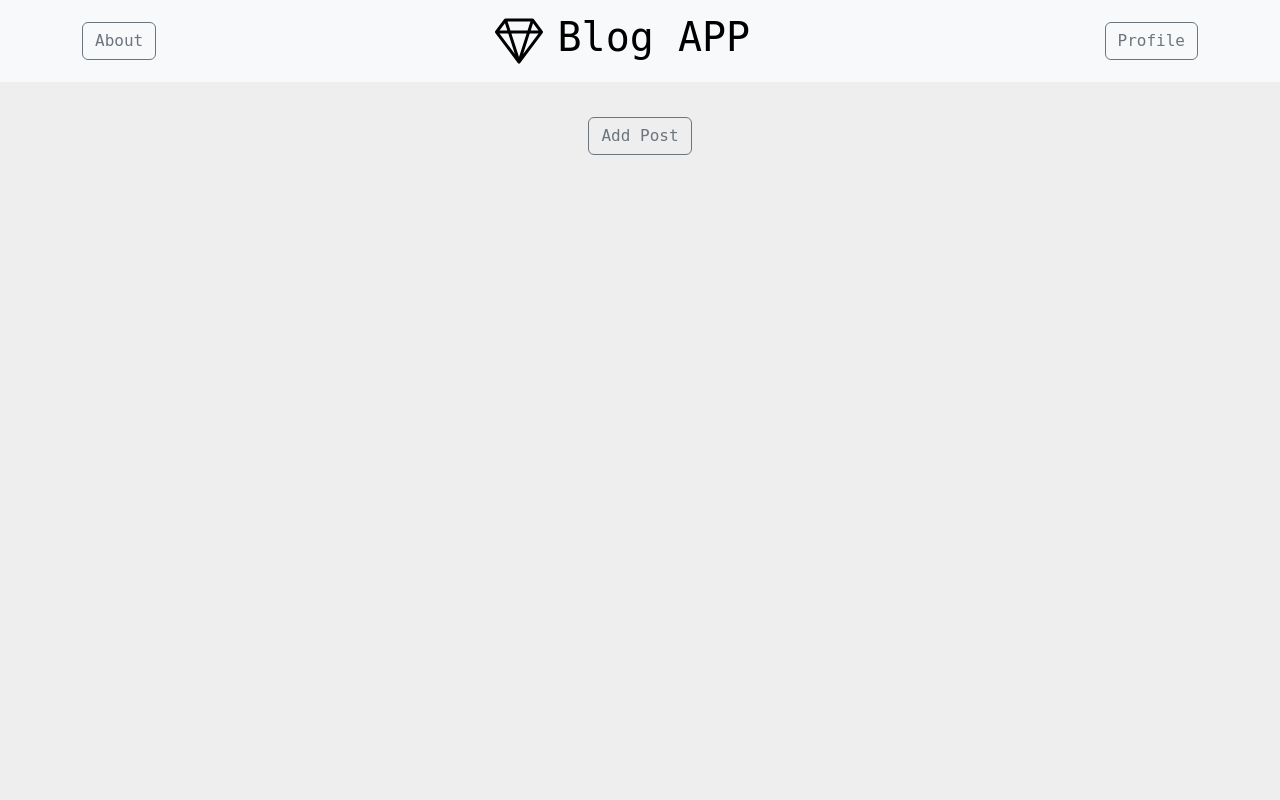
Test: AddPostModal Component Tests › should add a new post
Click the button with class "add-btn": coordinates (641, 136) [589,117,692,155]
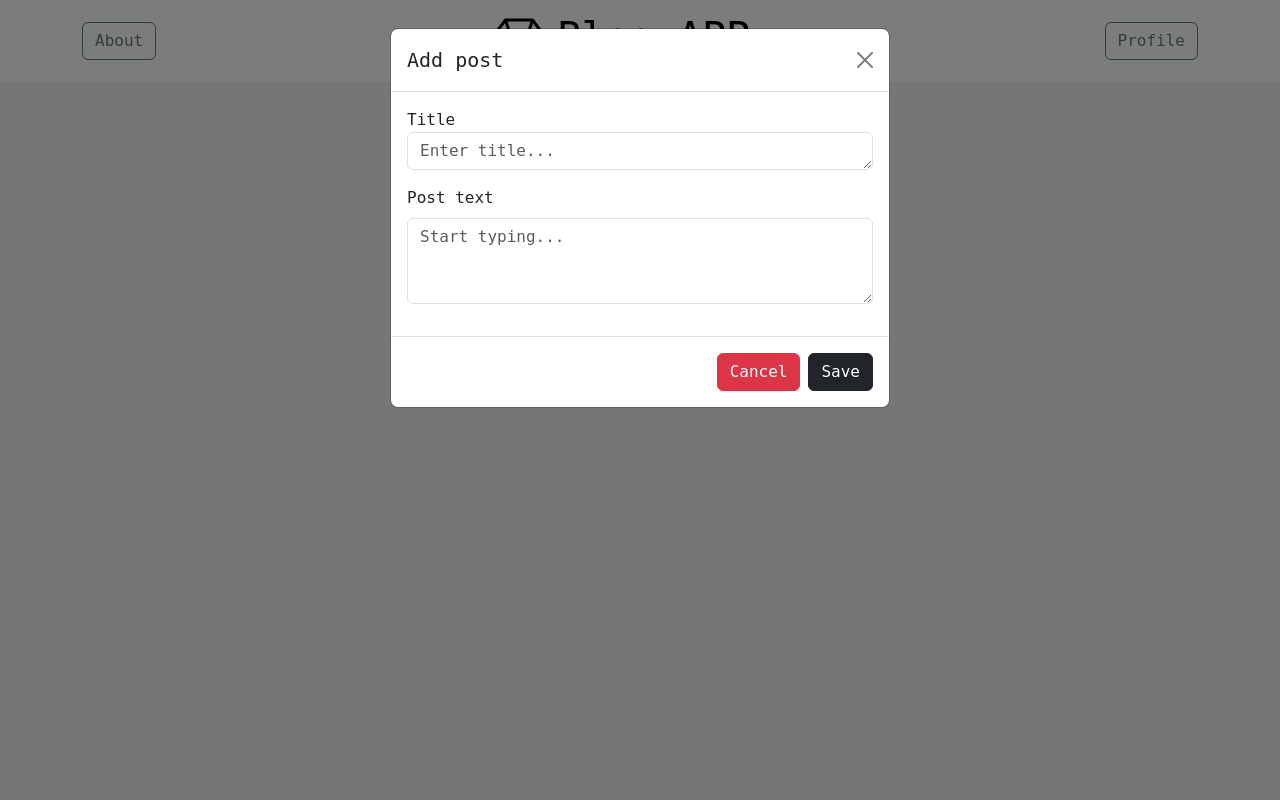
In the text box with id "add_title_post": coordinates (640, 151) [407,132,873,170], type "Test Post Title"
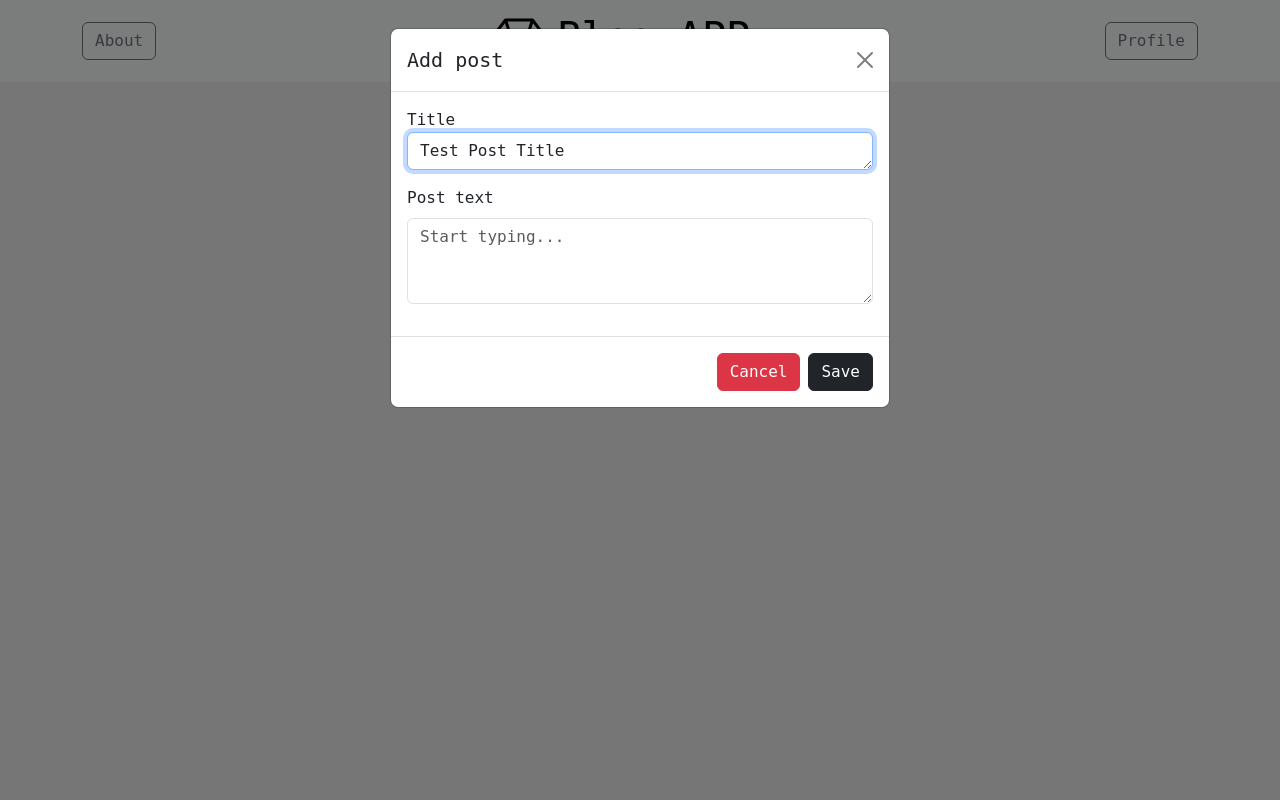
In the text box labelled "Post text": coordinates (640, 261) [407,218,873,304], type "Test Post Description"
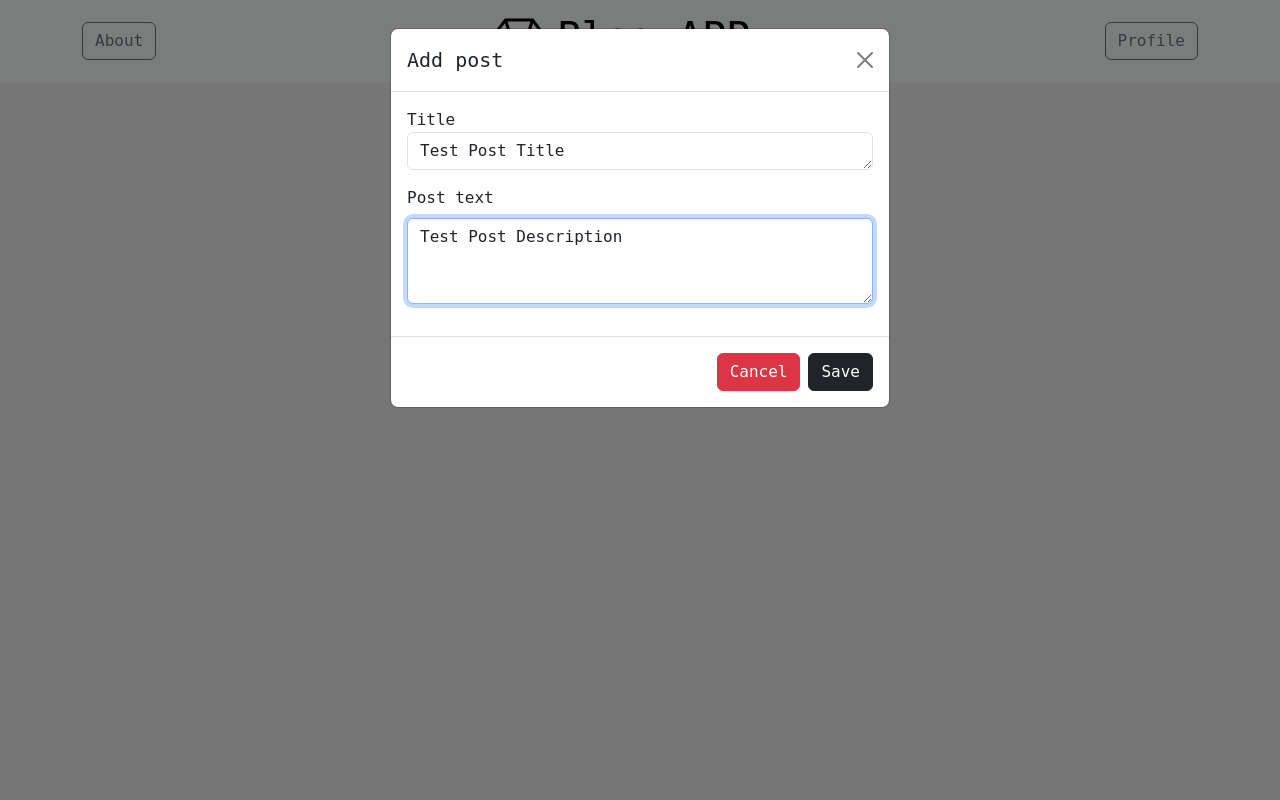
Click the button with class "btn-dark": coordinates (842, 372) [809,353,874,391]
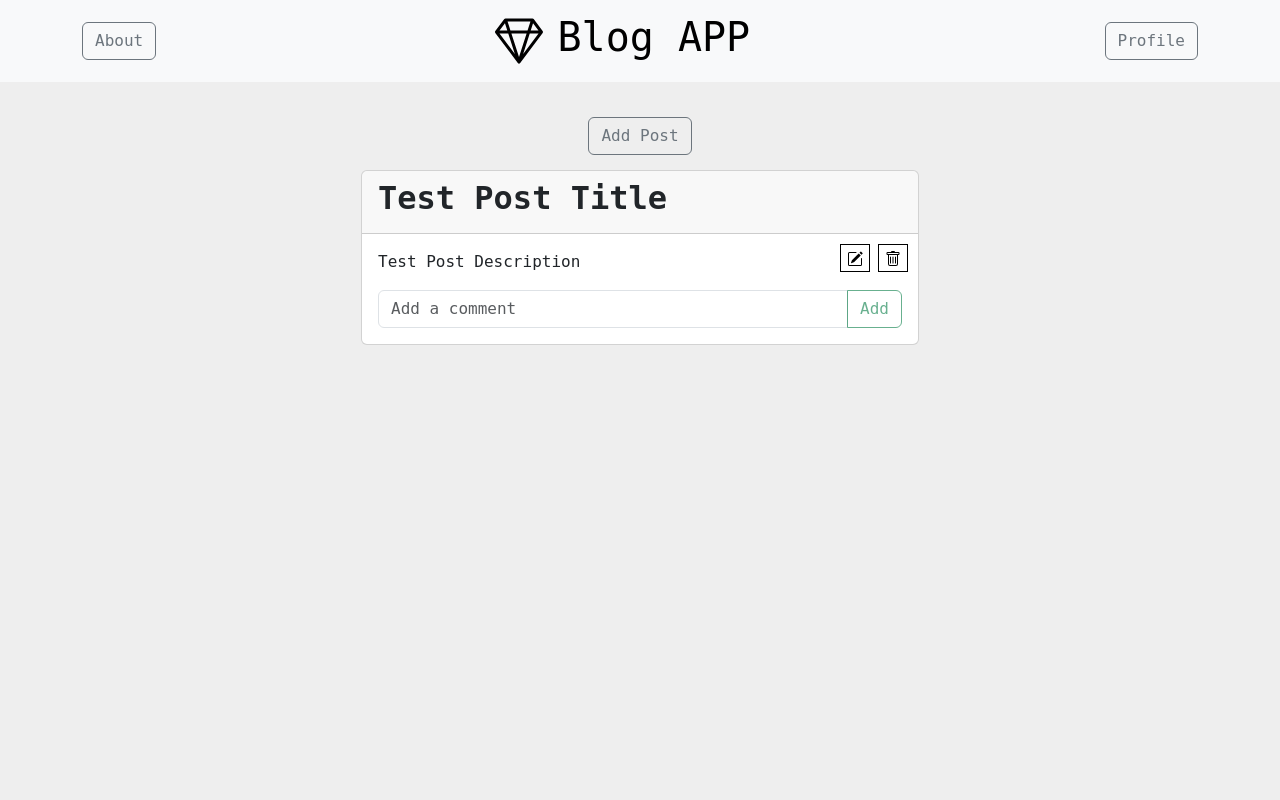
Result: the heading with class "card-header" reads "Test Post Title" at [378,179,667,217]
Result: the text with class "card-text" reads "Test Post Description" at [378,252,580,271]
